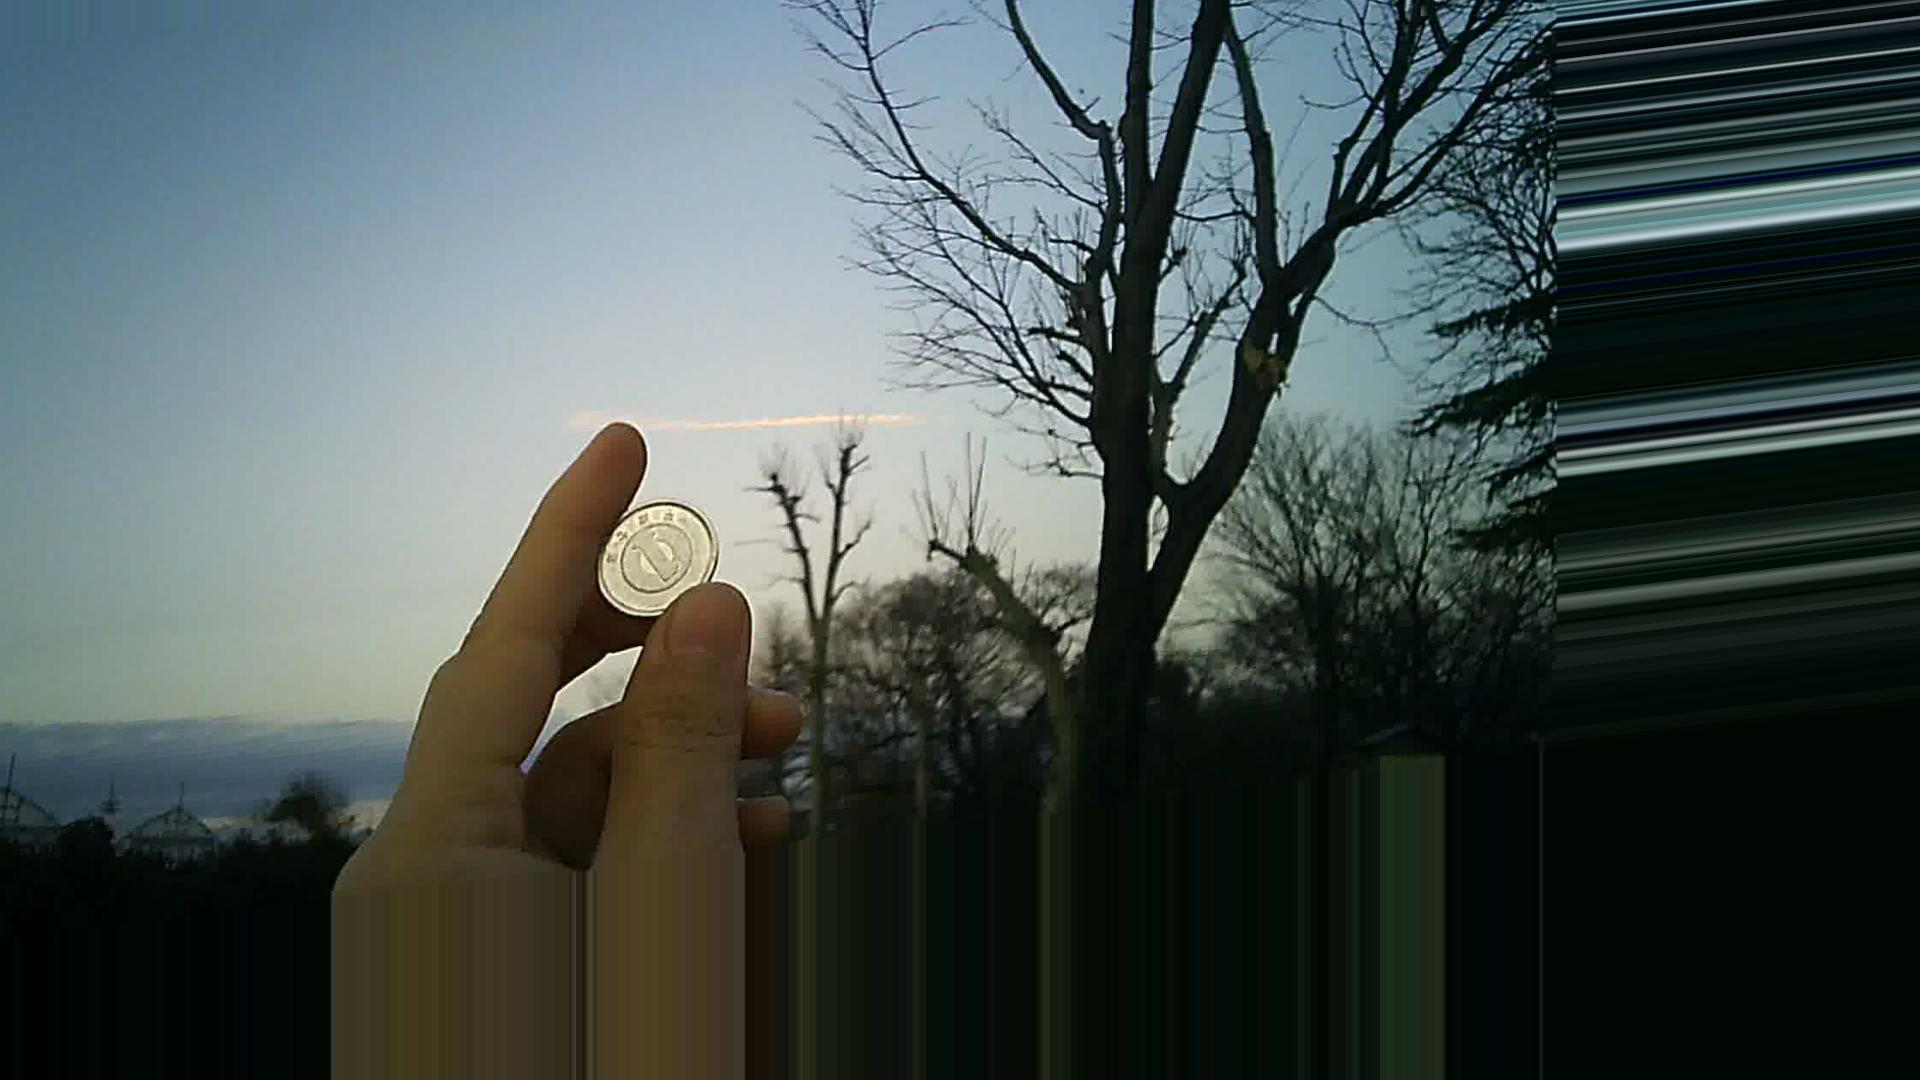1 Yen: (596, 483, 737, 615)
